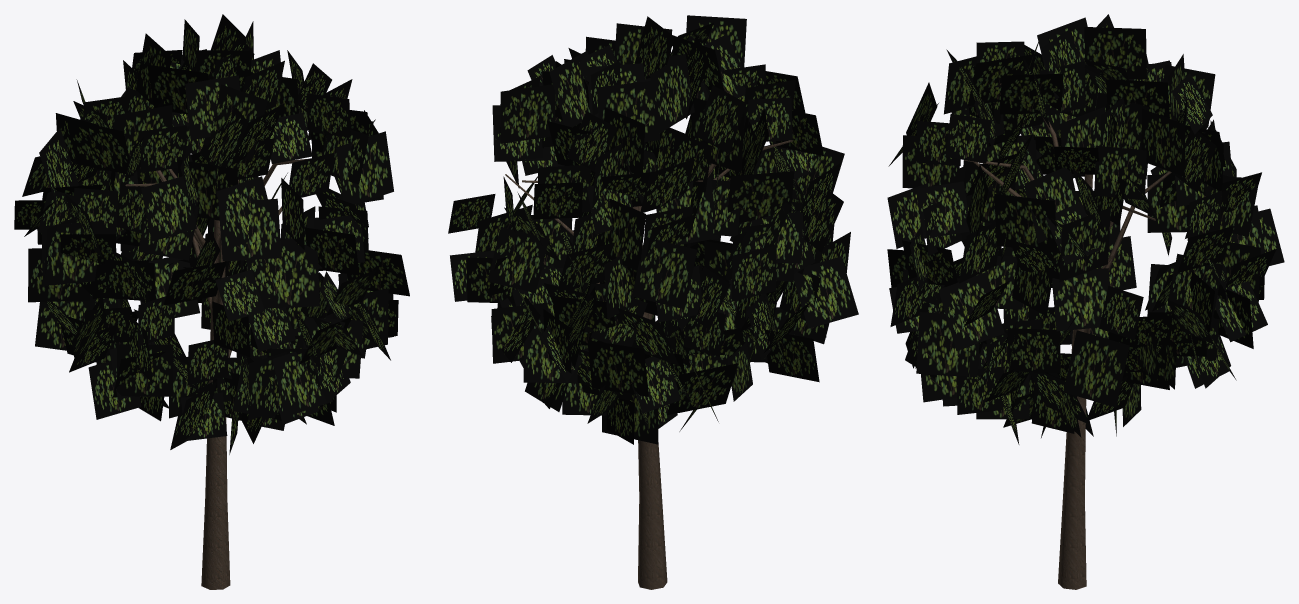
The model's file is tpl_yard_old_yard_ash.glb.
3 views of the same model, side by side, from view 1: azimuth 30°, elevation 25°; view 2: azimuth 150°, elevation 25°; view 3: azimuth 270°, elevation 25° (orthographic).
Visible parts, largest first — view 1: tpl_yard_old_yard_ash; view 2: tpl_yard_old_yard_ash; view 3: tpl_yard_old_yard_ash.
Boxes of the visible parts, x1,y1,x2,y2 form: tpl_yard_old_yard_ash: (14,14,409,589); tpl_yard_old_yard_ash: (448,15,858,589); tpl_yard_old_yard_ash: (887,14,1284,589).
Bounding box in the file's own units: 12.14 × 17.82 × 11.77.
2 materials, 2 textured.
